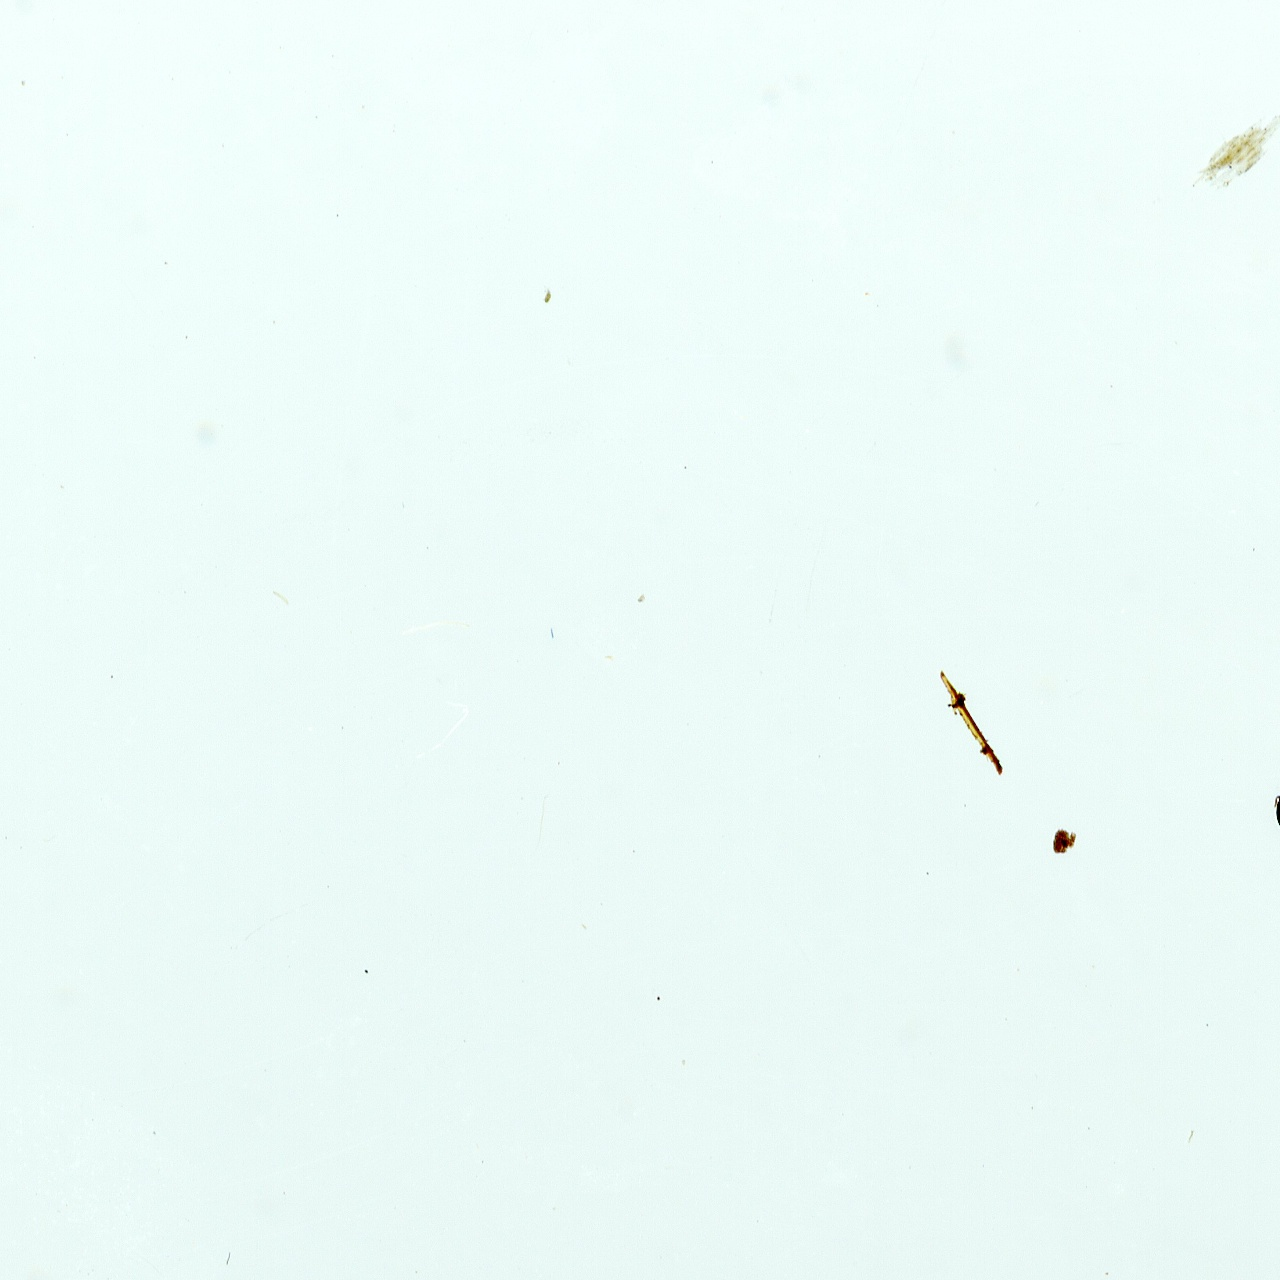arthropod: (1273, 771, 1280, 842)
